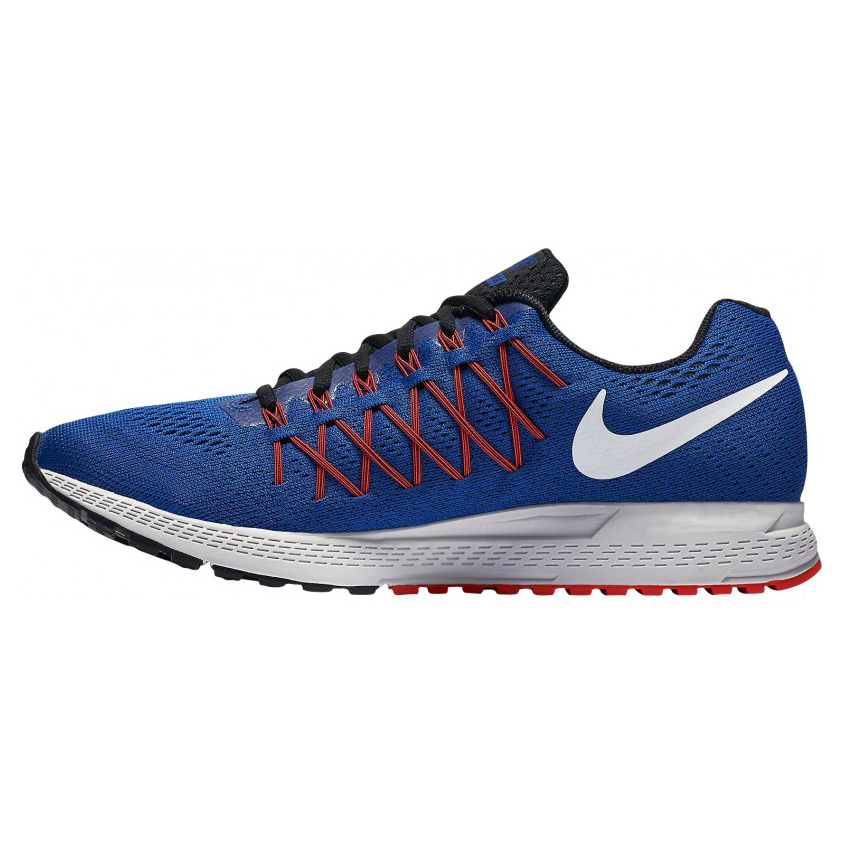Nike: (567, 366, 797, 489)
